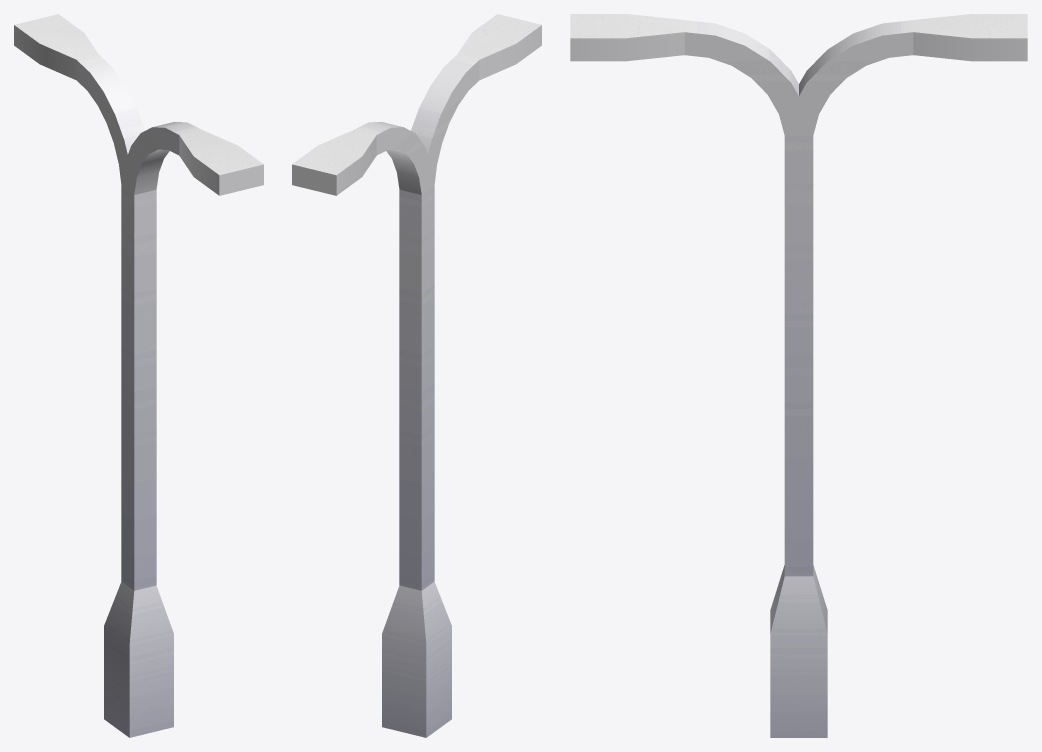
File: light-curved-double.glb
The picture shows the model from 3 angles, left to right: view 1: azimuth 30°, elevation 25°; view 2: azimuth 150°, elevation 25°; view 3: azimuth 270°, elevation 25°; orthographic projection. The views are drawn at different scales.
Visible parts, largest first — view 1: light-curved-double; view 2: light-curved-double; view 3: light-curved-double.
Boxes of the visible parts, left/top/right/bottom form: light-curved-double: left=14, top=14, right=263, bottom=737; light-curved-double: left=292, top=14, right=541, bottom=737; light-curved-double: left=570, top=14, right=1027, bottom=737.
Size of the model in its own units: 0.05 by 0.675 by 0.4.
Materials: 1 (1 with a texture image).
